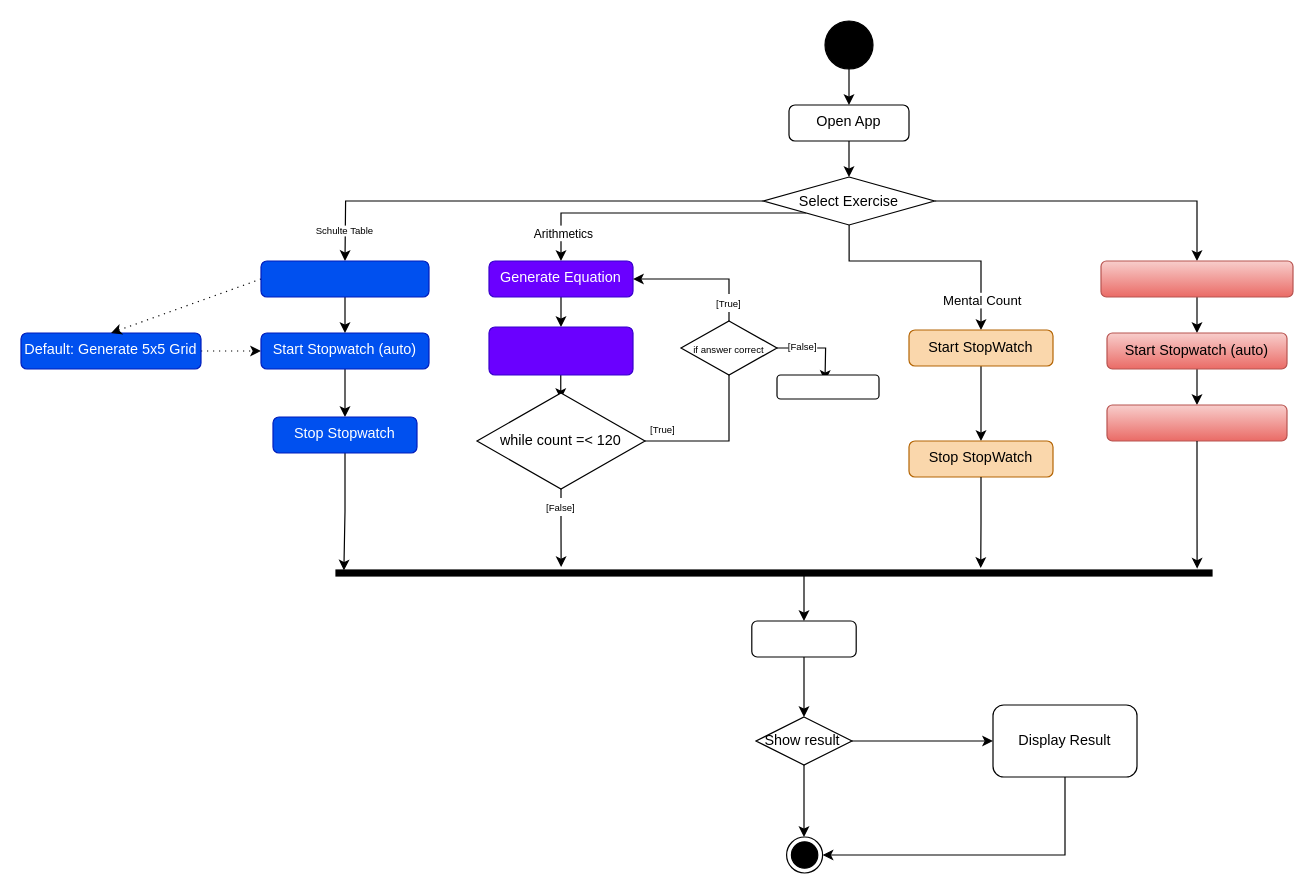
The diagram is 1314 pixels wide and 894 high, and some of its shapes have lost their labels. The shapes that lost their labels are listed below. From the top down, each one's centre as x and y in pixels, then its label:
the point at 344,278: Choose grid size
the point at 1196,278: Generate Word with Color
the point at 560,350: Count Equation count += 1
the point at 827,386: Save wrong result
the point at 1196,422: Stop Stopwatch (auto)
the point at 803,638: Save Result
